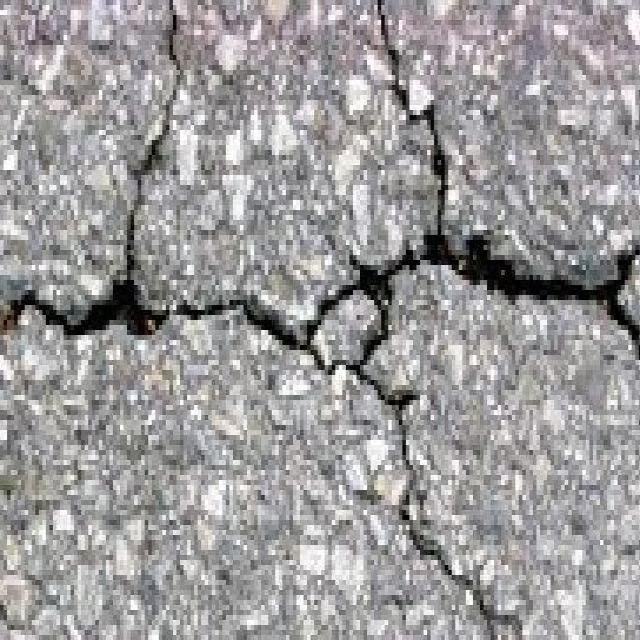Annular: (288, 248, 408, 400)
Longitudinal: (379, 402, 528, 640), (364, 0, 448, 168), (134, 1, 182, 207)
Radial: (65, 213, 183, 377), (410, 174, 500, 298), (562, 236, 640, 354)
Transverse: (192, 284, 282, 346), (0, 281, 65, 340), (500, 260, 558, 314)
